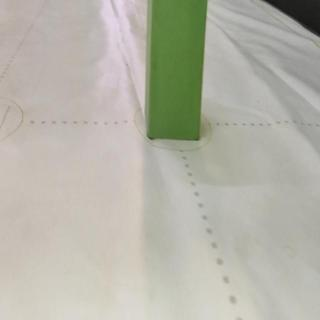greenbox: (145, 1, 209, 141)
